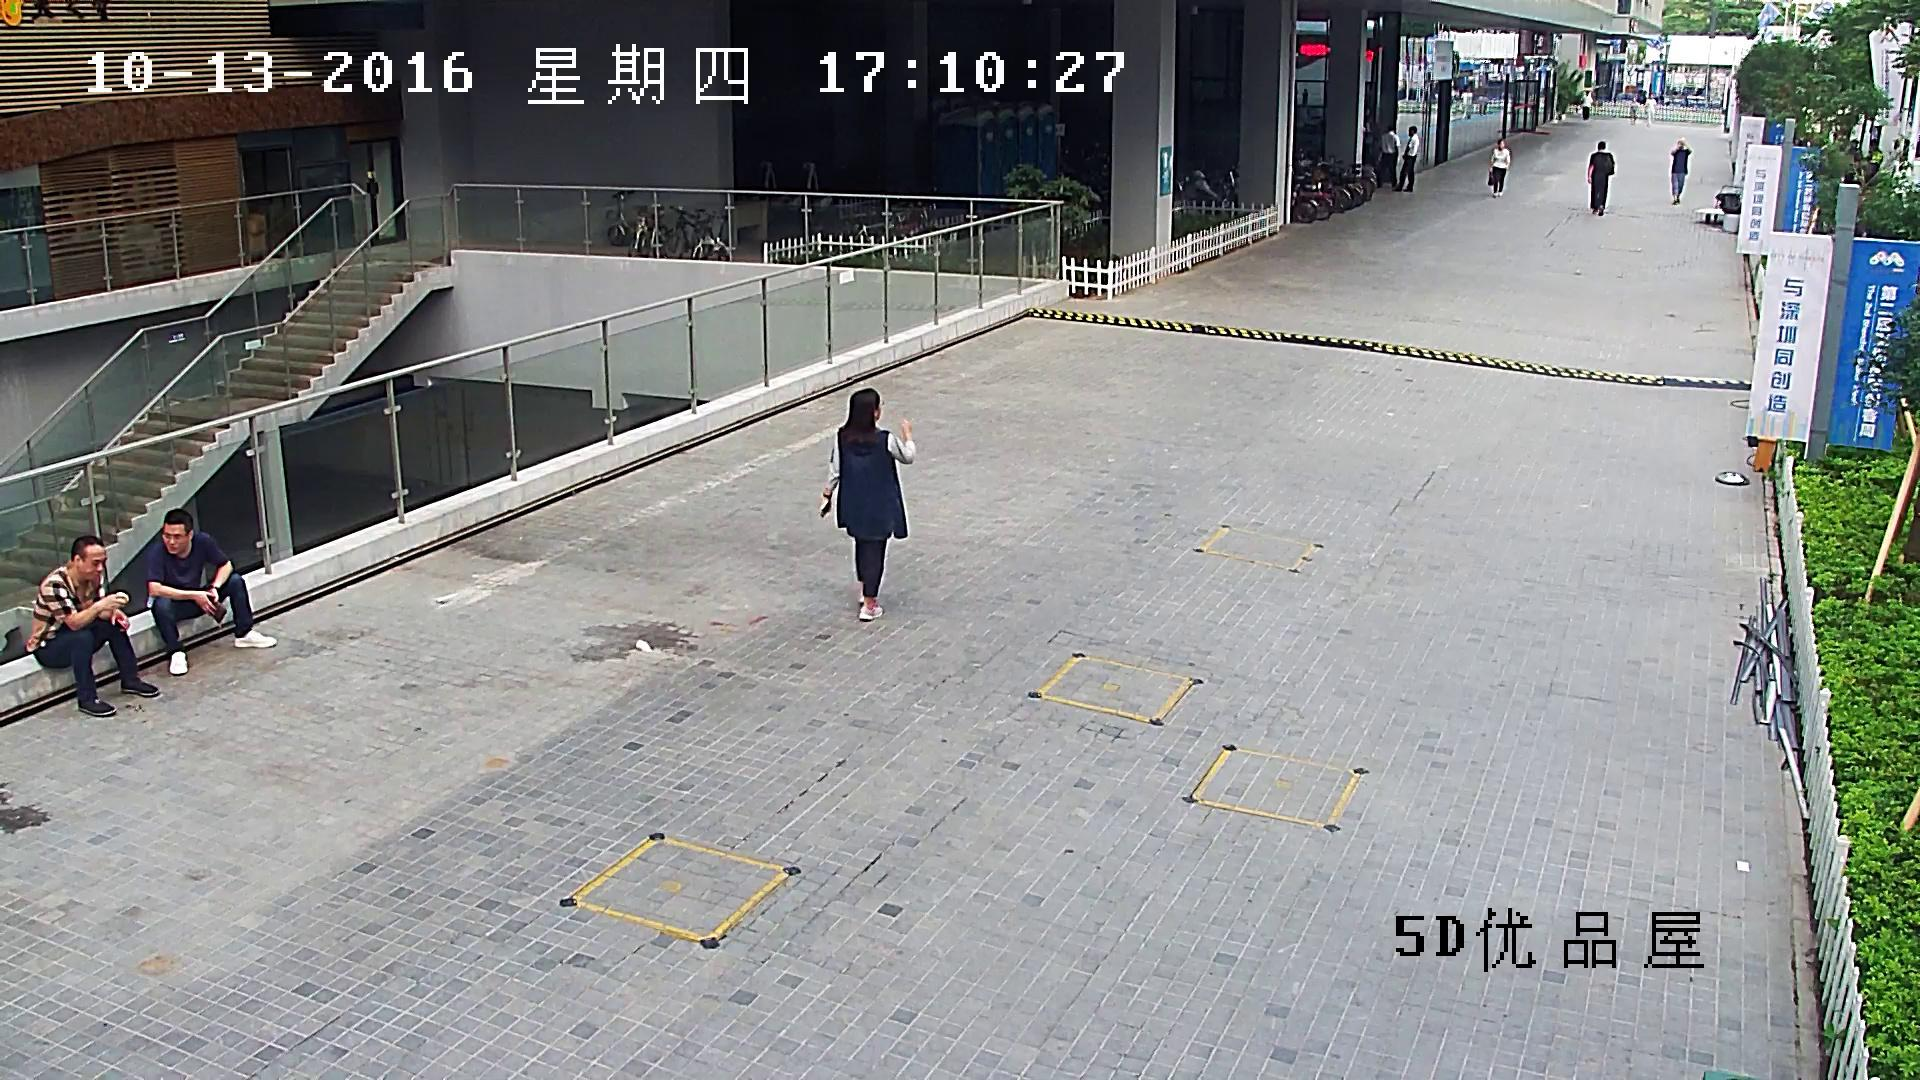person: (24, 535, 159, 715), (145, 508, 277, 674), (820, 388, 915, 619), (1588, 141, 1614, 215), (1392, 127, 1419, 192), (1375, 123, 1399, 188), (1670, 139, 1693, 205), (1488, 138, 1510, 197), (1866, 139, 1883, 171), (1459, 85, 1473, 119), (1643, 94, 1656, 127), (1846, 139, 1862, 161), (1629, 95, 1639, 127), (1582, 90, 1592, 119)
